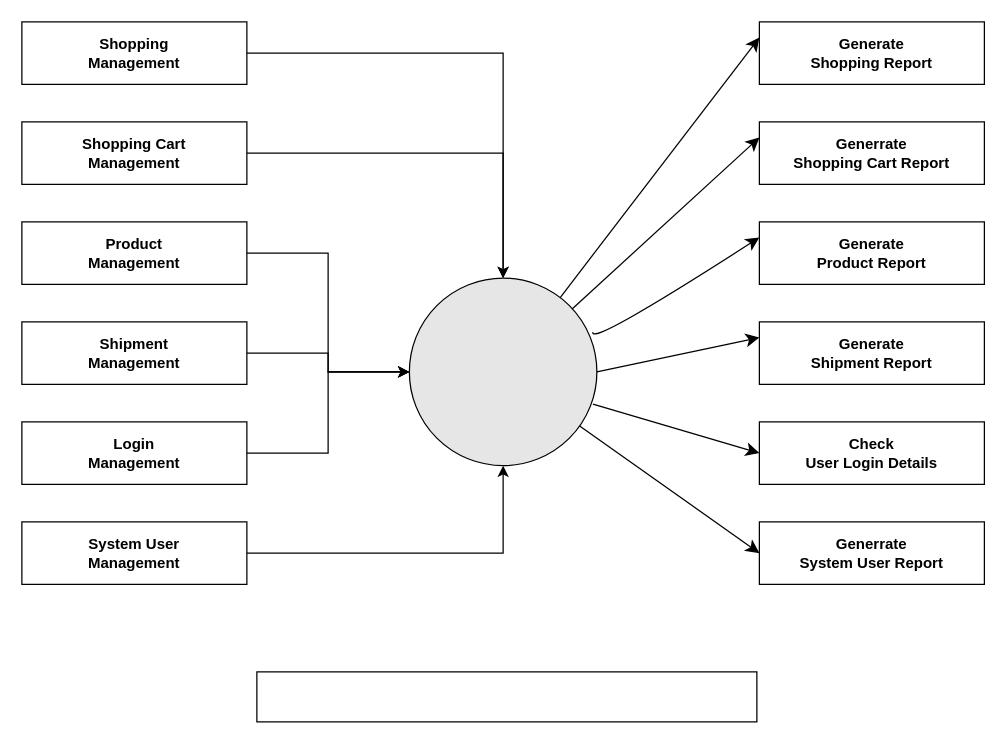
Image size: 1006x744. Some labels were removed from this diagram. The shapes that lost their labels are listed below. From the top down, each one's centre as x and y in pixels, then its label:
[502,371]: Online Shopping System
[506,696]: First Level DFD - E commerce
